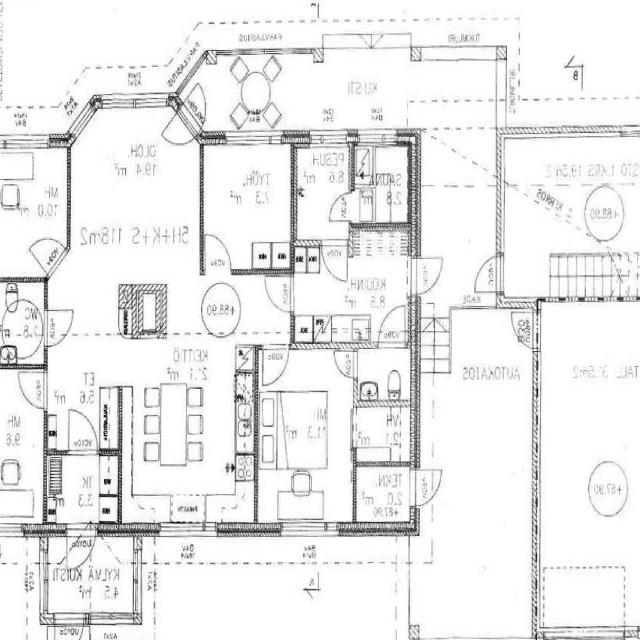door: (177, 76, 220, 138), (159, 102, 202, 163), (29, 223, 68, 278), (67, 524, 96, 577), (408, 257, 447, 295), (411, 470, 446, 506), (69, 410, 97, 454), (508, 313, 542, 349), (379, 306, 406, 348), (205, 233, 231, 274), (322, 240, 347, 282), (19, 372, 48, 408), (265, 276, 294, 312), (263, 344, 289, 384), (45, 311, 73, 346), (55, 612, 84, 640), (328, 193, 352, 221), (334, 351, 358, 378)
